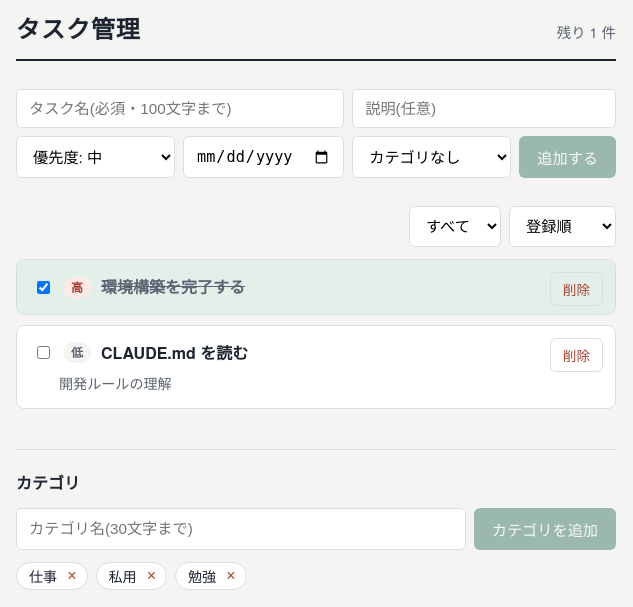
Test: カテゴリ › 確認で了承するとカテゴリが削除される
This screenshot has width=633, height=607.
Step 1. Click the button named "カテゴリ「勉強」を削除" → click(231, 576), box left=220, top=565, right=242, bottom=587
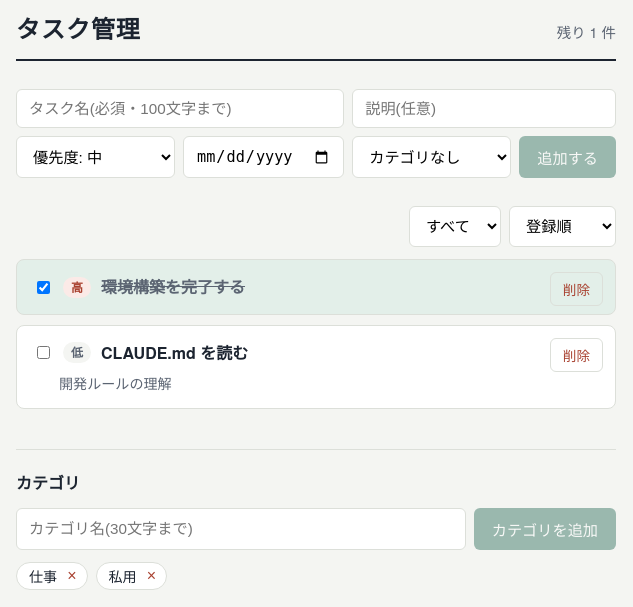
Now the button "カテゴリ「勉強」を削除" is gone
